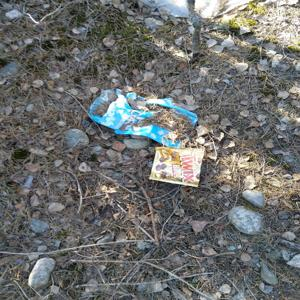plastic: (91, 89, 214, 150), (144, 145, 204, 187)
